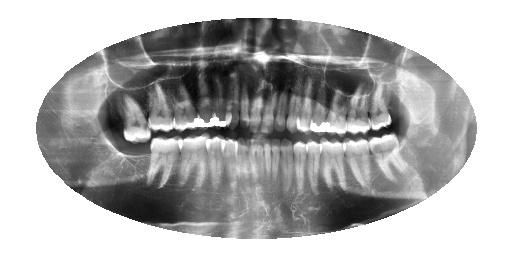i10healthy: (246, 133, 257, 192)
i11healthy: (233, 135, 248, 191)
i12healthy: (218, 134, 240, 195)
i13healthy: (203, 135, 227, 200)
i14healthy: (175, 132, 212, 191)
i15healthy: (143, 134, 186, 191)
i16loss: (119, 134, 155, 174)
i1healthy: (366, 131, 413, 185)
i2healthy: (341, 135, 378, 191)
i3healthy: (317, 136, 349, 195)
i4healthy: (303, 137, 323, 199)
i5healthy: (293, 139, 308, 204)
i6decay: (279, 132, 294, 201)
i7healthy: (269, 136, 282, 189)
i8healthy: (261, 136, 272, 189)
i9healthy: (254, 135, 265, 190)
u10decay: (238, 78, 252, 132)
u11healthy: (223, 69, 242, 132)
u12healthy: (210, 75, 234, 133)
u13healthy: (189, 72, 217, 129)
u14healthy: (171, 78, 202, 134)
u15healthy: (143, 77, 176, 132)
u16healthy: (116, 92, 154, 145)
u1healthy: (365, 77, 394, 133)
u2healthy: (343, 72, 373, 135)
u3healthy: (324, 83, 348, 137)
u4healthy: (308, 71, 331, 137)
u5healthy: (294, 72, 313, 136)
u6healthy: (285, 72, 302, 135)
u7healthy: (272, 81, 290, 135)
u8healthy: (259, 81, 279, 137)
u9decay: (245, 80, 264, 135)
